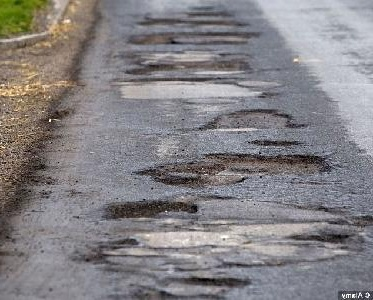pothole: (131, 150, 333, 189), (195, 105, 310, 134), (124, 58, 254, 78), (127, 27, 263, 46), (99, 199, 201, 223), (140, 16, 252, 29), (246, 138, 304, 148)
